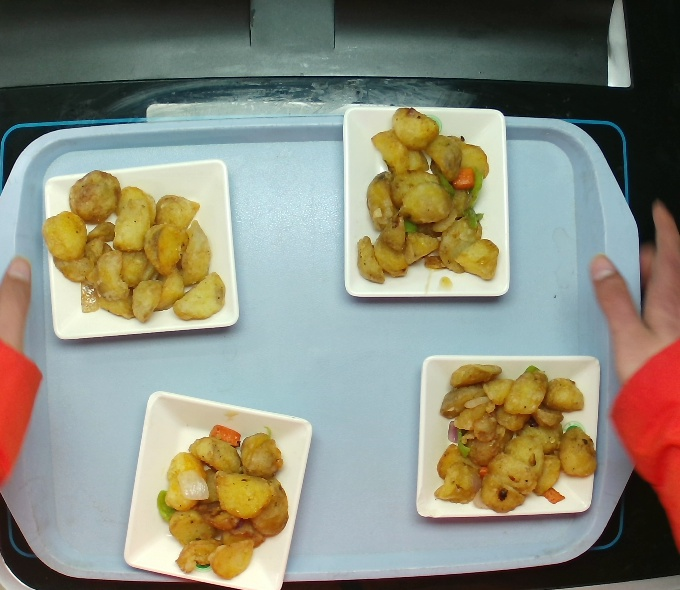wcq-TuDouZai: (53, 167, 220, 327), (355, 107, 502, 287), (157, 410, 291, 582), (435, 367, 588, 513)
